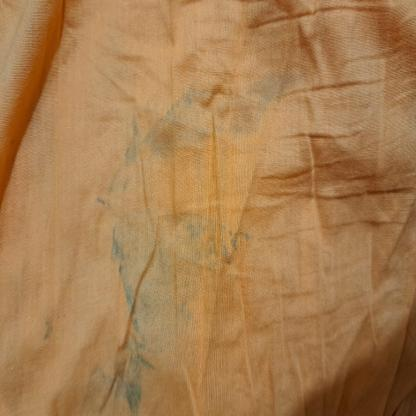spot: (159, 206, 247, 281), (112, 222, 162, 317), (138, 276, 188, 356), (185, 83, 231, 149), (132, 95, 186, 148), (120, 330, 152, 416), (231, 64, 264, 136), (118, 128, 168, 174), (96, 167, 132, 209), (265, 63, 308, 96), (89, 365, 127, 399), (42, 314, 68, 339)
